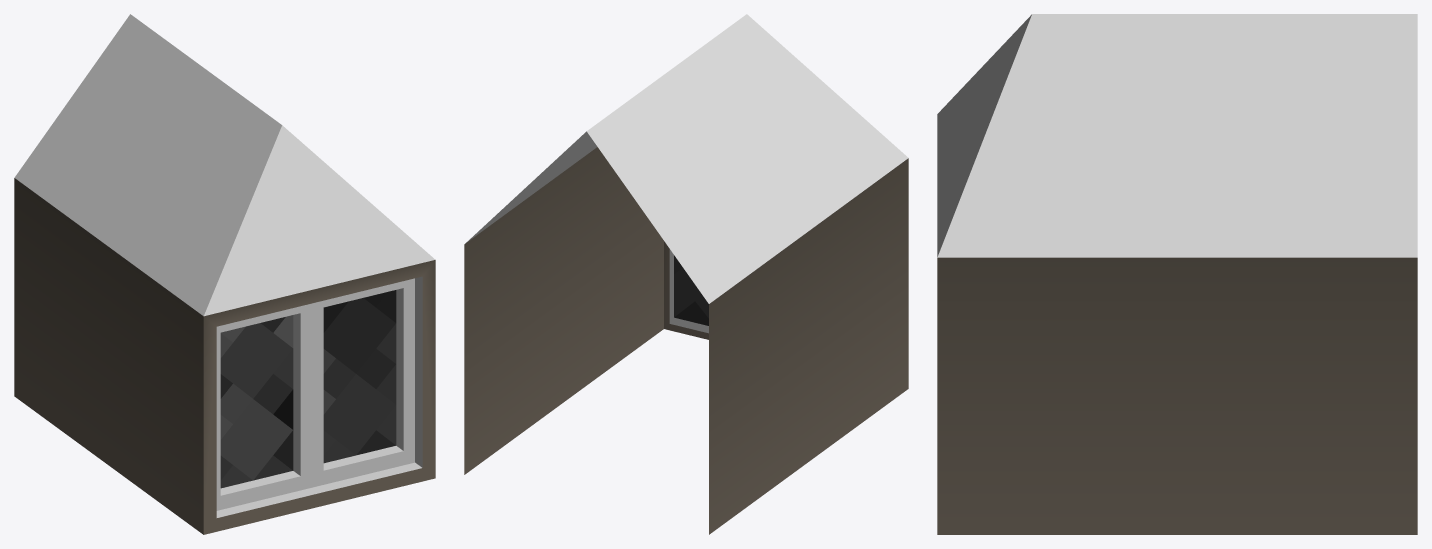
The model's file is RoofWindowDivided1.fbx.
3 renders of one model, left to right at view 1: azimuth 30°, elevation 25°; view 2: azimuth 150°, elevation 25°; view 3: azimuth 270°, elevation 25°, orthographic. The views are drawn at different scales.
Parts seen in each view (by area): view 1: Window-Roof_A.002, Window-Roof_A.004, Window-Roof_A.005, Window-Roof_A.001, Window-Roof_A.006, Window-Roof_A.007, Window-Roof_A.009, Window-Roof_A.008; view 2: Window-Roof_A.002, Window-Roof_A.004, Window-Roof_A.003, Window-Roof_A.010, Window-Roof_A.005, Window-Roof_A.006, Window-Roof_A.007; view 3: Window-Roof_A.003, Window-Roof_A.010, Window-Roof_A.002, Window-Roof_A.001.
Part boxes in pixels (x1,y1,x2,y2): Window-Roof_A.002: [14, 14, 281, 315]; Window-Roof_A.004: [14, 178, 203, 534]; Window-Roof_A.005: [220, 290, 396, 488]; Window-Roof_A.001: [204, 125, 435, 316]; Window-Roof_A.006: [203, 260, 435, 534]; Window-Roof_A.007: [216, 278, 414, 510]; Window-Roof_A.009: [220, 288, 403, 495]; Window-Roof_A.008: [216, 276, 422, 517]; Window-Roof_A.002: [470, 14, 908, 303]; Window-Roof_A.004: [709, 158, 908, 534]; Window-Roof_A.003: [464, 147, 663, 474]; Window-Roof_A.010: [465, 132, 597, 243]; Window-Roof_A.005: [674, 255, 708, 325]; Window-Roof_A.006: [664, 241, 708, 339]; Window-Roof_A.007: [669, 249, 708, 333]; Window-Roof_A.003: [937, 257, 1417, 534]; Window-Roof_A.010: [938, 14, 1417, 257]; Window-Roof_A.002: [937, 14, 1417, 257]; Window-Roof_A.001: [937, 14, 1031, 256].
Size of the model in its own units: 179 by 261 by 253.
